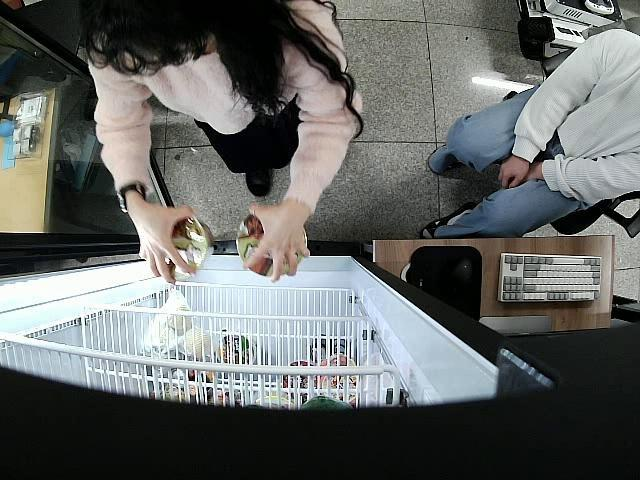03_chapagetti_L: (236, 214, 308, 276), (164, 218, 215, 279)
